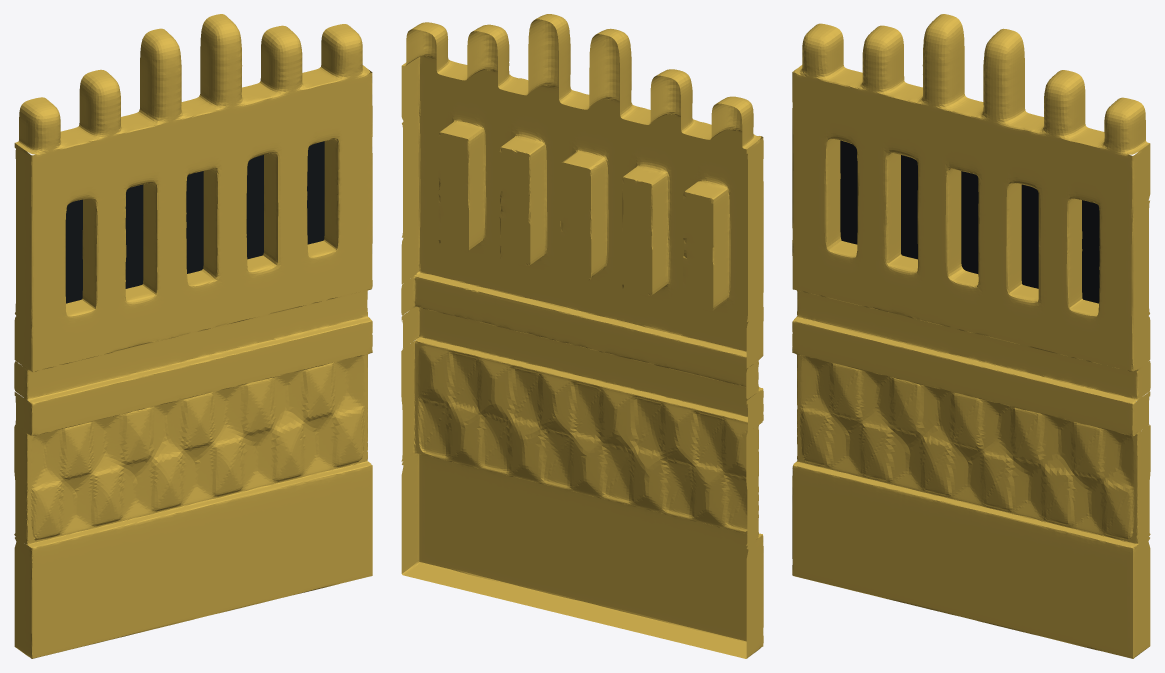
The model's file is wall.fbx.
3 views of the same model, side by side, from view 1: azimuth 30°, elevation 25°; view 2: azimuth 150°, elevation 25°; view 3: azimuth 330°, elevation 25° (orthographic).
Parts seen in each view (by area): view 1: Retopo_wall; view 2: Retopo_wall; view 3: Retopo_wall.
Part boxes in pixels (left/top/right/bottom): Retopo_wall: left=14, top=14, right=372, bottom=658; Retopo_wall: left=401, top=14, right=763, bottom=658; Retopo_wall: left=792, top=14, right=1150, bottom=658.
Bounding box in the file's own units: 256 × 419 × 22.89.
